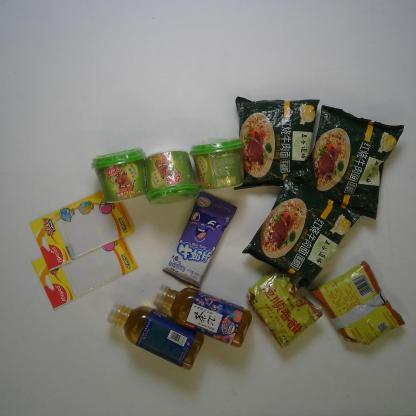Candy: (160, 189, 238, 292)
Drink: (103, 298, 208, 372), (147, 284, 255, 350)
Instant Drink: (85, 144, 153, 206), (187, 133, 251, 193), (141, 145, 198, 207)
Instant Noodles: (235, 173, 363, 289), (302, 100, 407, 224), (233, 91, 324, 192)
Seasoner: (313, 259, 407, 349), (244, 270, 326, 352)
Stationery: (26, 231, 138, 313), (27, 185, 136, 268)
